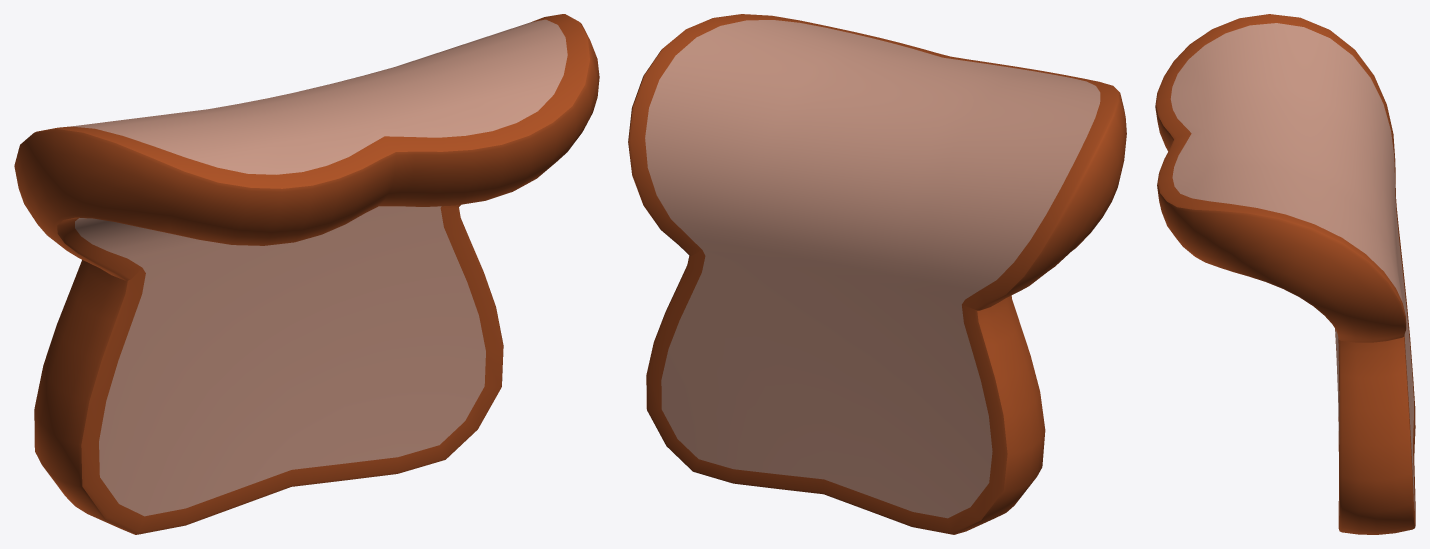
File: Slice_Of_Bread_Bend.FBX
The picture shows the model from 3 angles, left to right: view 1: azimuth 30°, elevation 25°; view 2: azimuth 150°, elevation 25°; view 3: azimuth 270°, elevation 25°; orthographic projection. The views are drawn at different scales.
Parts seen in each view (by area): view 1: Cylinder060; view 2: Cylinder060; view 3: Cylinder060.
Boxes of the visible parts, box(x1,y1,x2,y2) form: Cylinder060: box(14, 14, 599, 534); Cylinder060: box(628, 14, 1126, 534); Cylinder060: box(1155, 14, 1415, 534).
Size of the model in its own units: 565 by 464 by 300.
